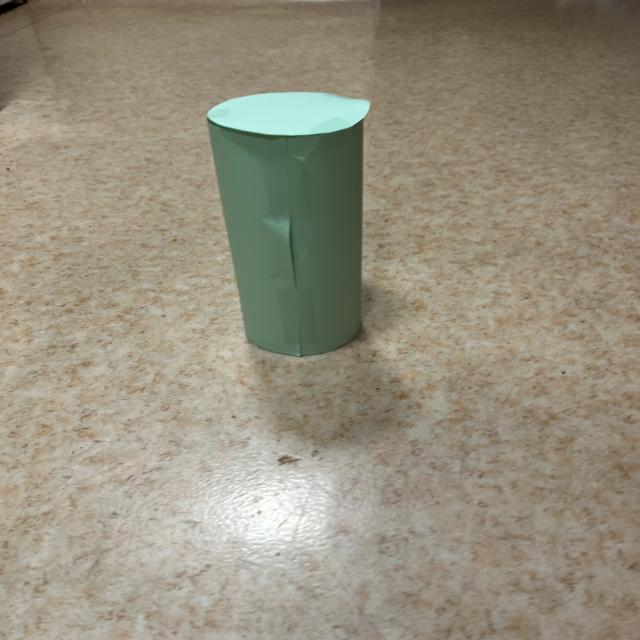meta: (208, 93, 369, 356)
